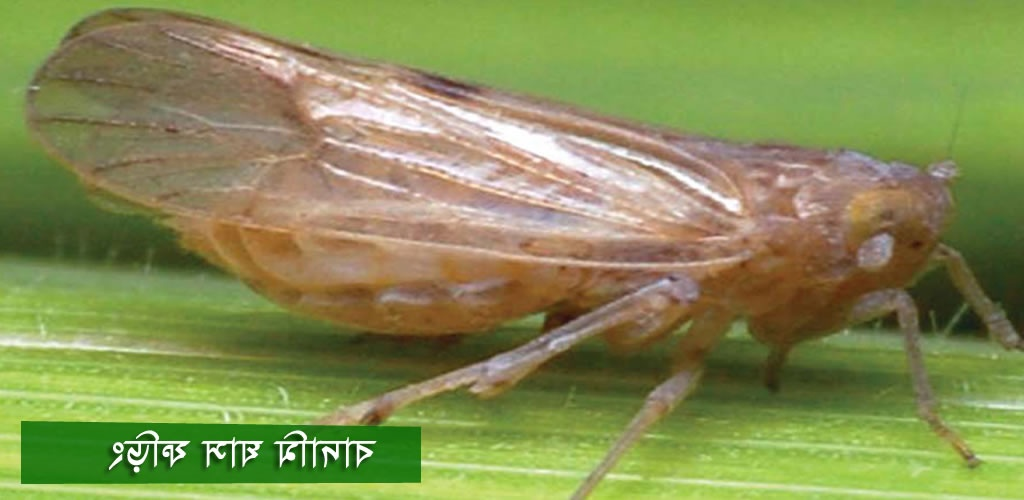Brown_hopper: (26, 10, 1001, 420)
